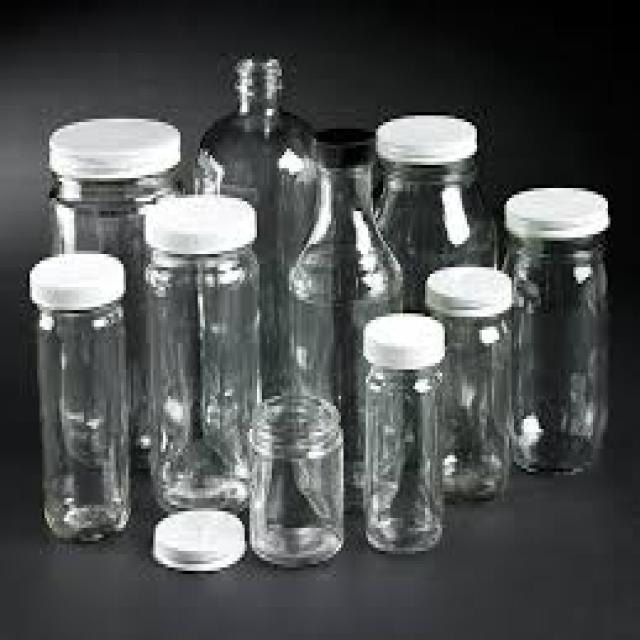glass: (195, 53, 324, 402), (284, 162, 400, 515), (47, 168, 178, 465), (141, 244, 254, 511), (499, 231, 606, 472), (37, 301, 126, 535), (371, 159, 497, 324), (247, 393, 341, 564), (363, 360, 440, 551), (430, 310, 507, 495)
metal: (47, 112, 175, 175), (141, 195, 252, 254), (148, 508, 245, 571), (27, 247, 121, 307), (361, 307, 445, 369), (371, 112, 475, 162), (423, 257, 509, 317), (502, 185, 606, 234)
plastic: (311, 122, 371, 162)
